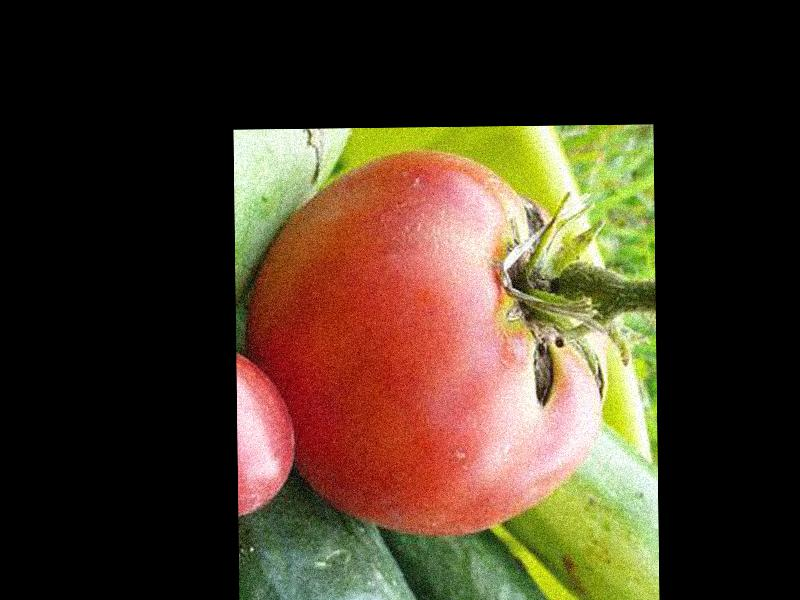Tomato: (242, 147, 604, 535)
